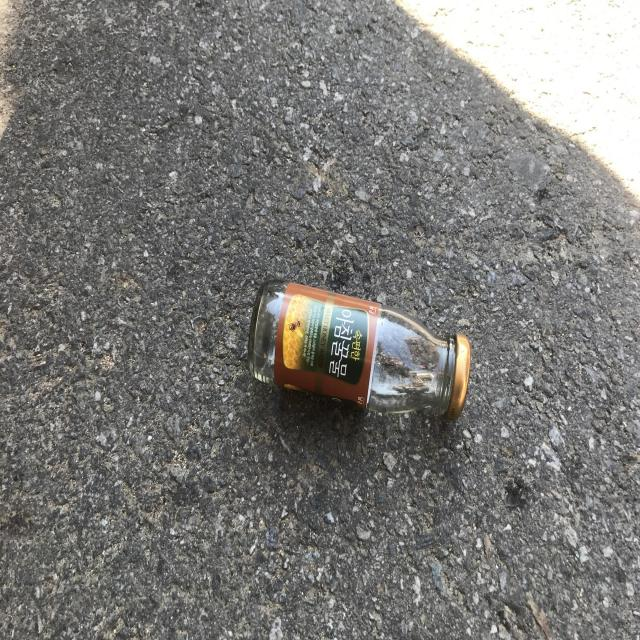glass: (248, 279, 471, 419)
